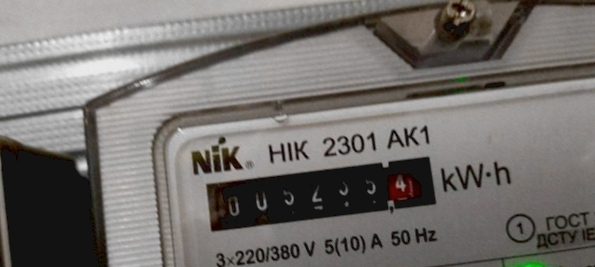0: (223, 190, 243, 218), (252, 184, 269, 211)
2: (306, 175, 323, 202)
3: (333, 170, 351, 196)
4: (390, 165, 409, 193)
5: (278, 179, 297, 207), (360, 167, 379, 195)
screen: (193, 140, 449, 243)
